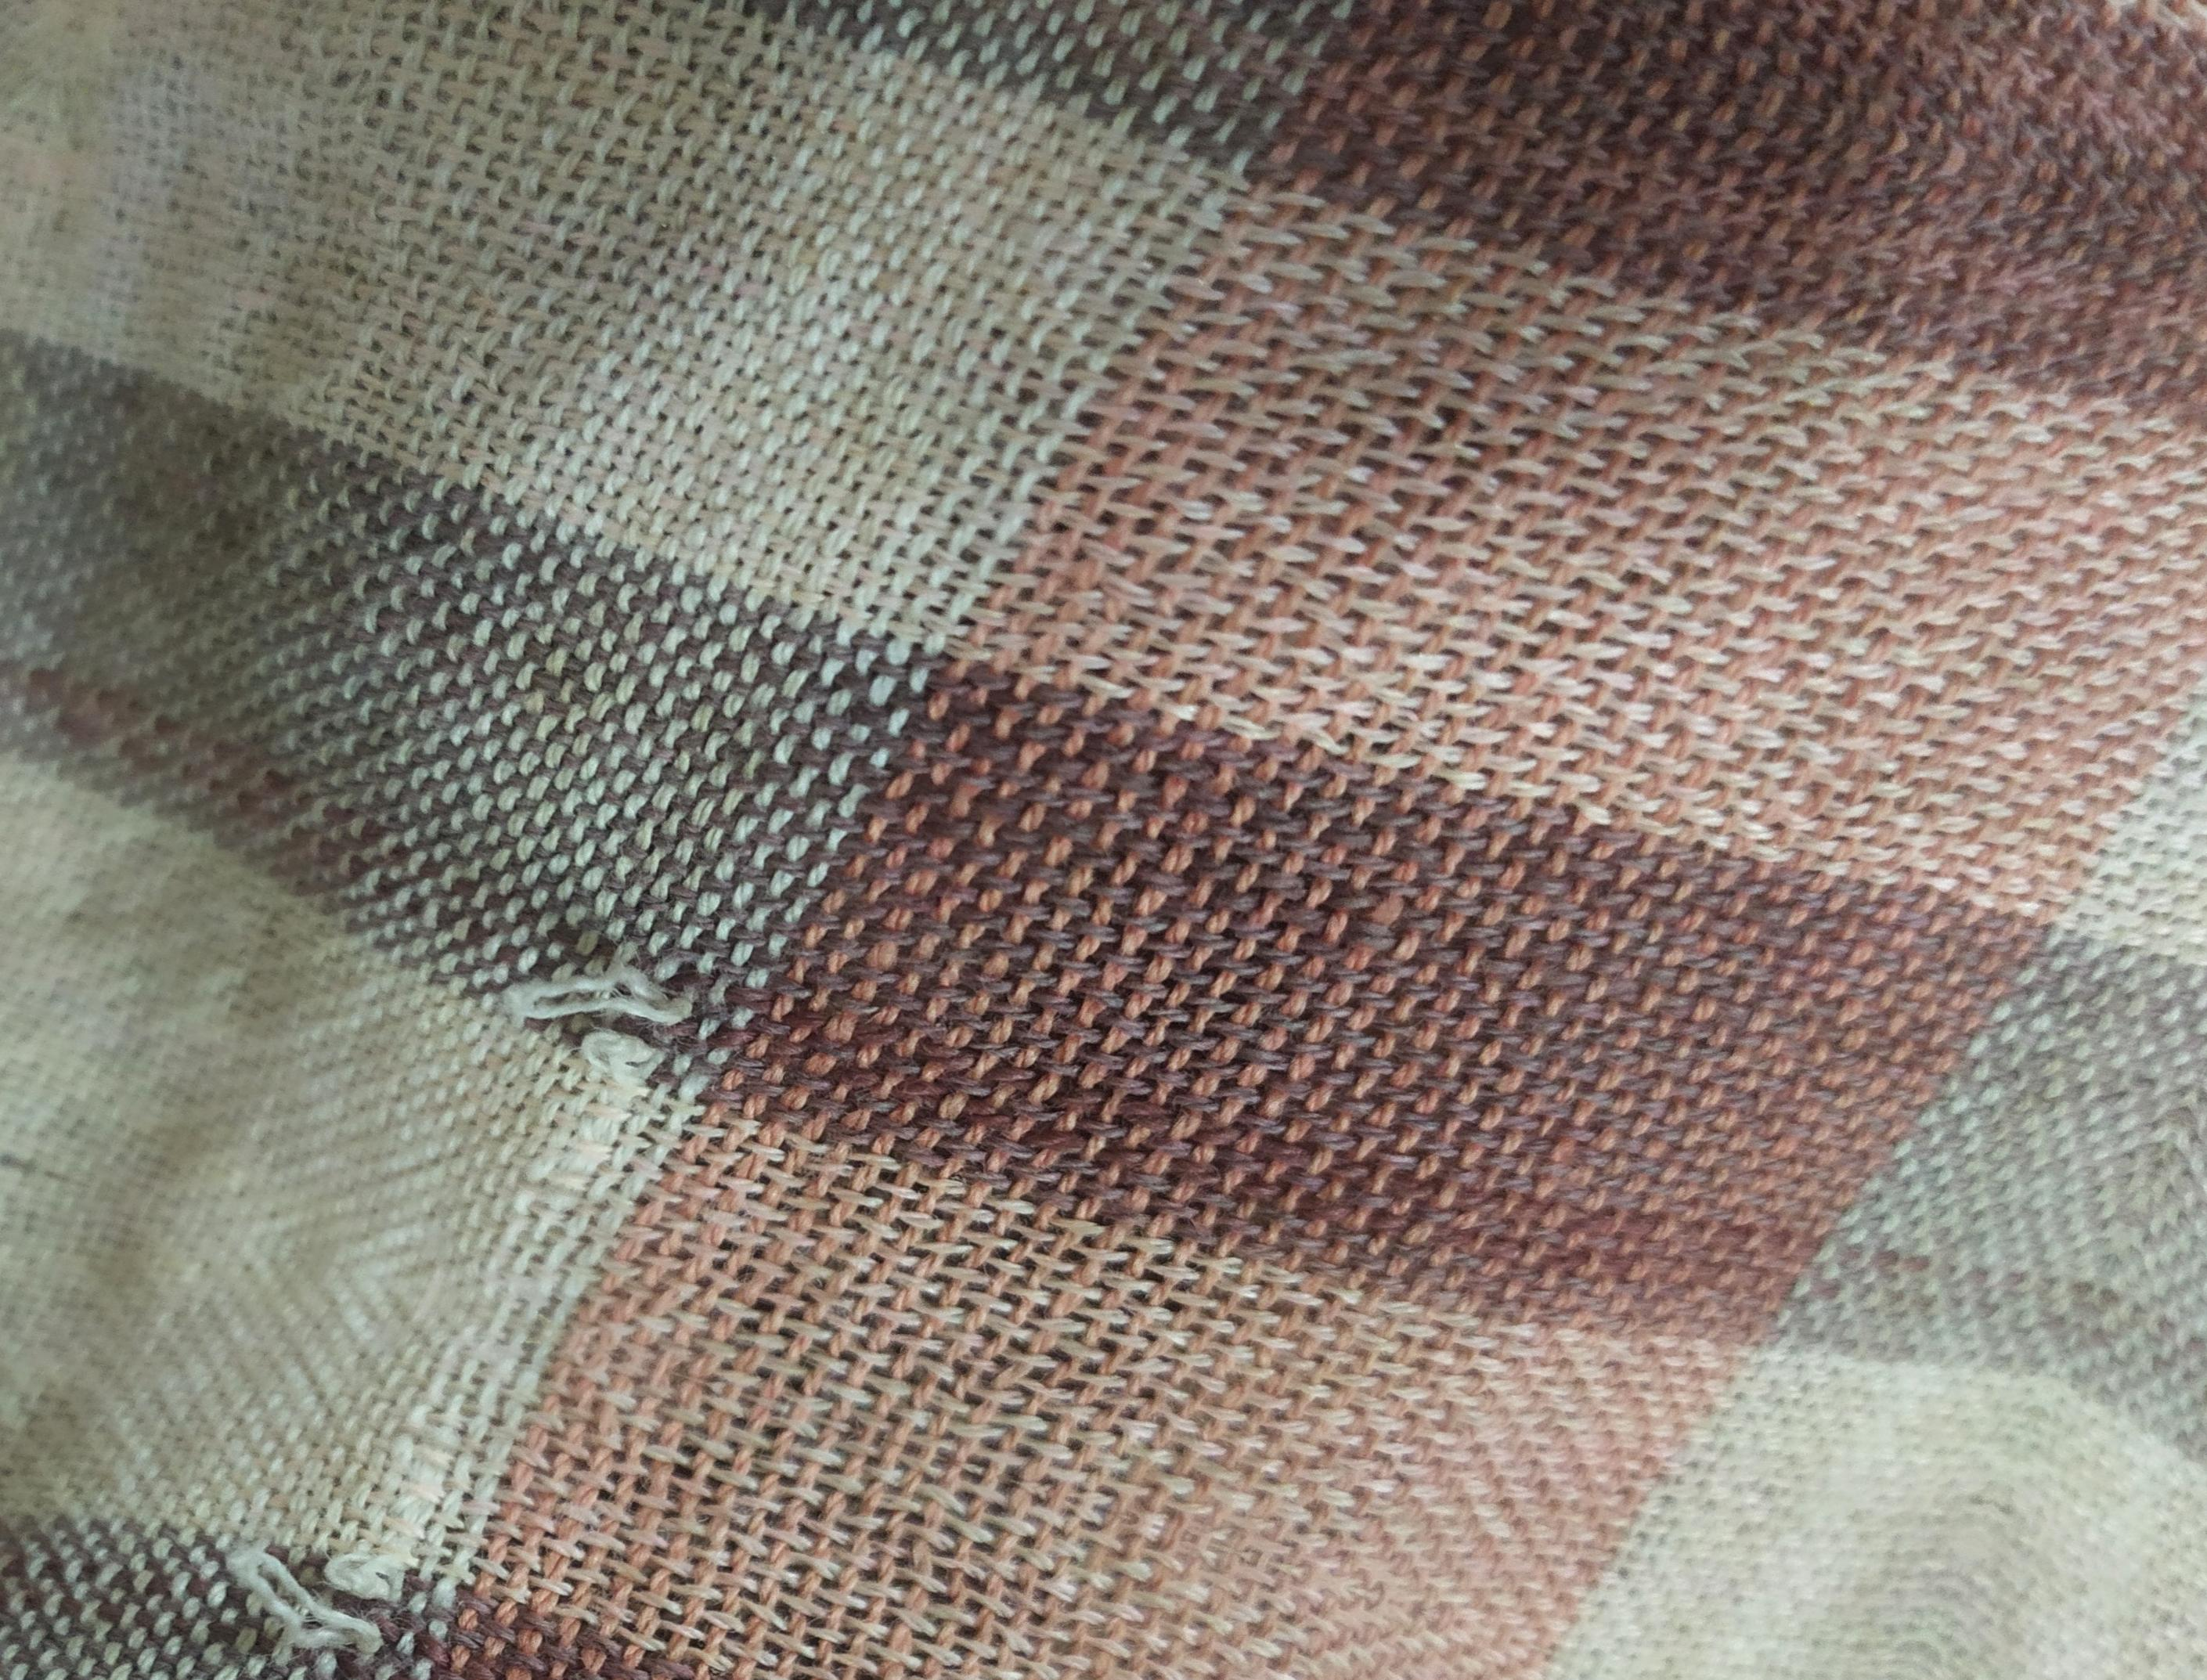snag: (508, 939, 716, 1092), (210, 1523, 436, 1664)
